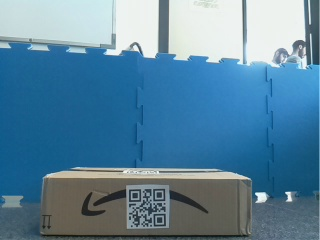caja: (40, 160, 253, 237)
